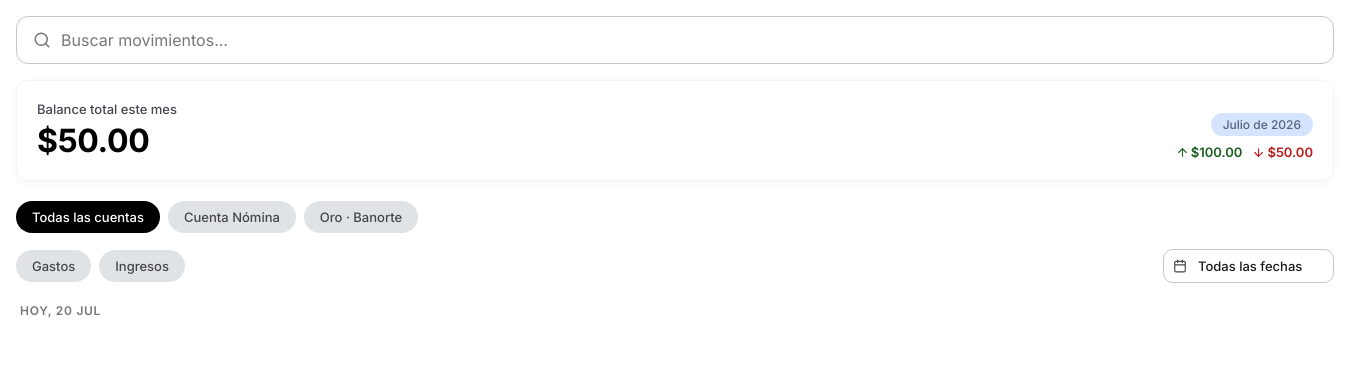
HistorialView › shows a no-match message when filters exclude everything
The width and height of the screenshot is (1351, 377).
What coordinates should you click on to do the following:
click the button with test id "historial-chip-tipo-gastos"
I would click on:
 (54, 266)
Its box is [16,250,91,282].
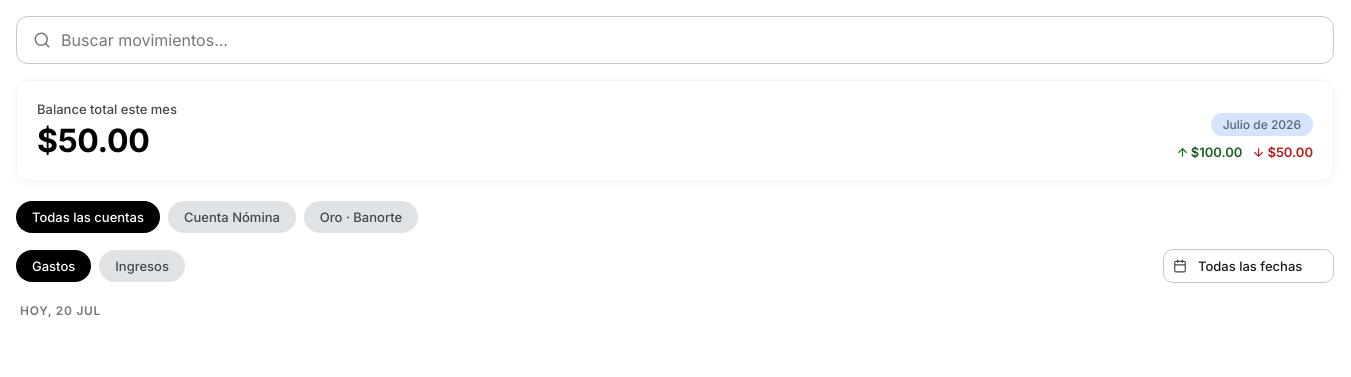
What coordinates should you click on to do the following:
click the button with test id "historial-chip-target-cuenta-1"
I would click on:
 (232, 217)
Its box is [168,201,296,233].
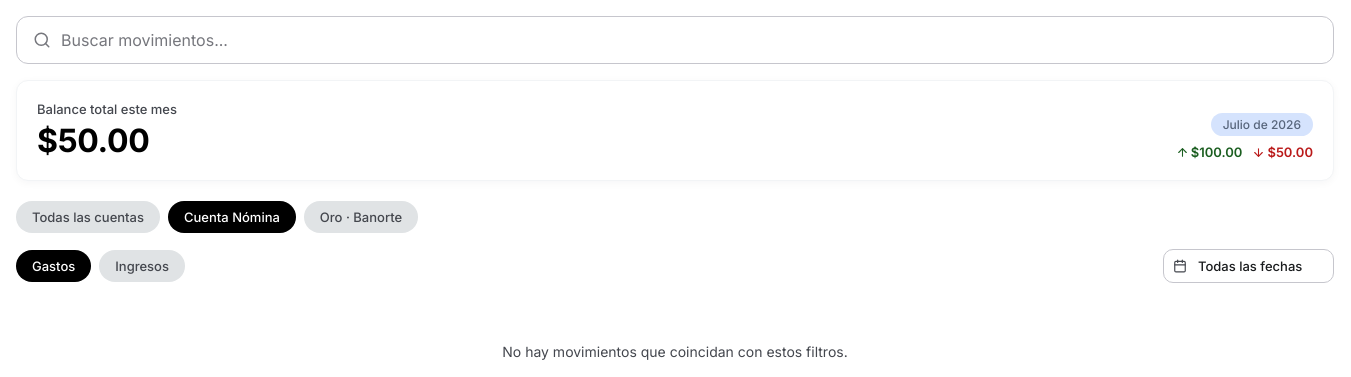
Check: the text "No hay movimientos que coincidan con estos filtros." is shown, box [502,343,848,360]
